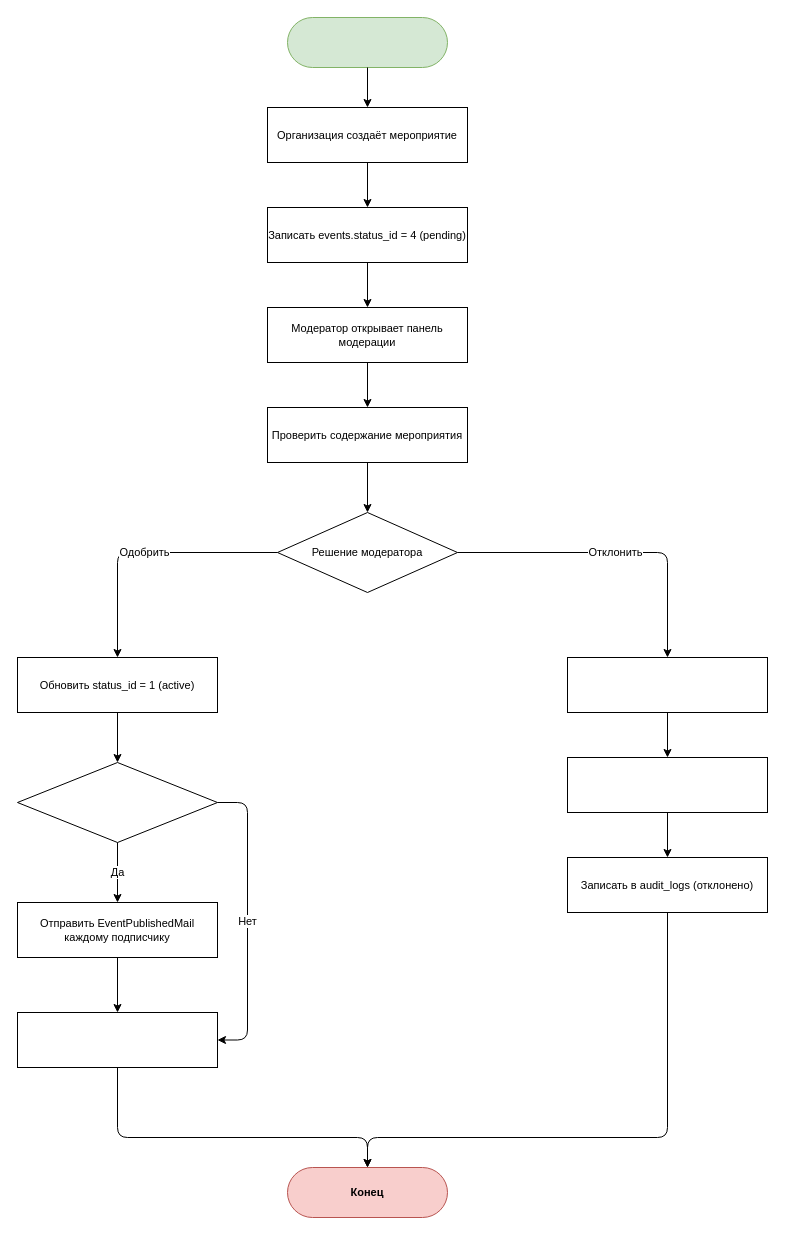
Some shapes in this 785 by 1235 pixel diagram are drawn without their labels. Each missing label, with the box of its shape:
Есть подписчики организации?: (16, 762, 218, 842)
Записать в audit_logs (одобрено): (16, 1012, 218, 1068)
Начало: (286, 16, 448, 68)
Обновить status_id = 2 (rejected): (566, 656, 768, 712)
Уведомить организацию об отклонении: (566, 756, 768, 812)
